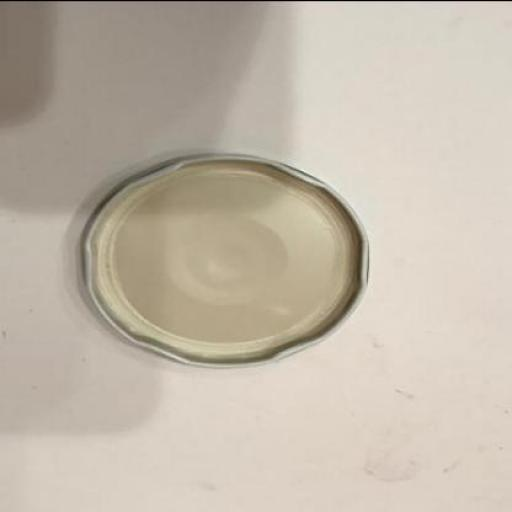metal: (80, 154, 370, 368)
